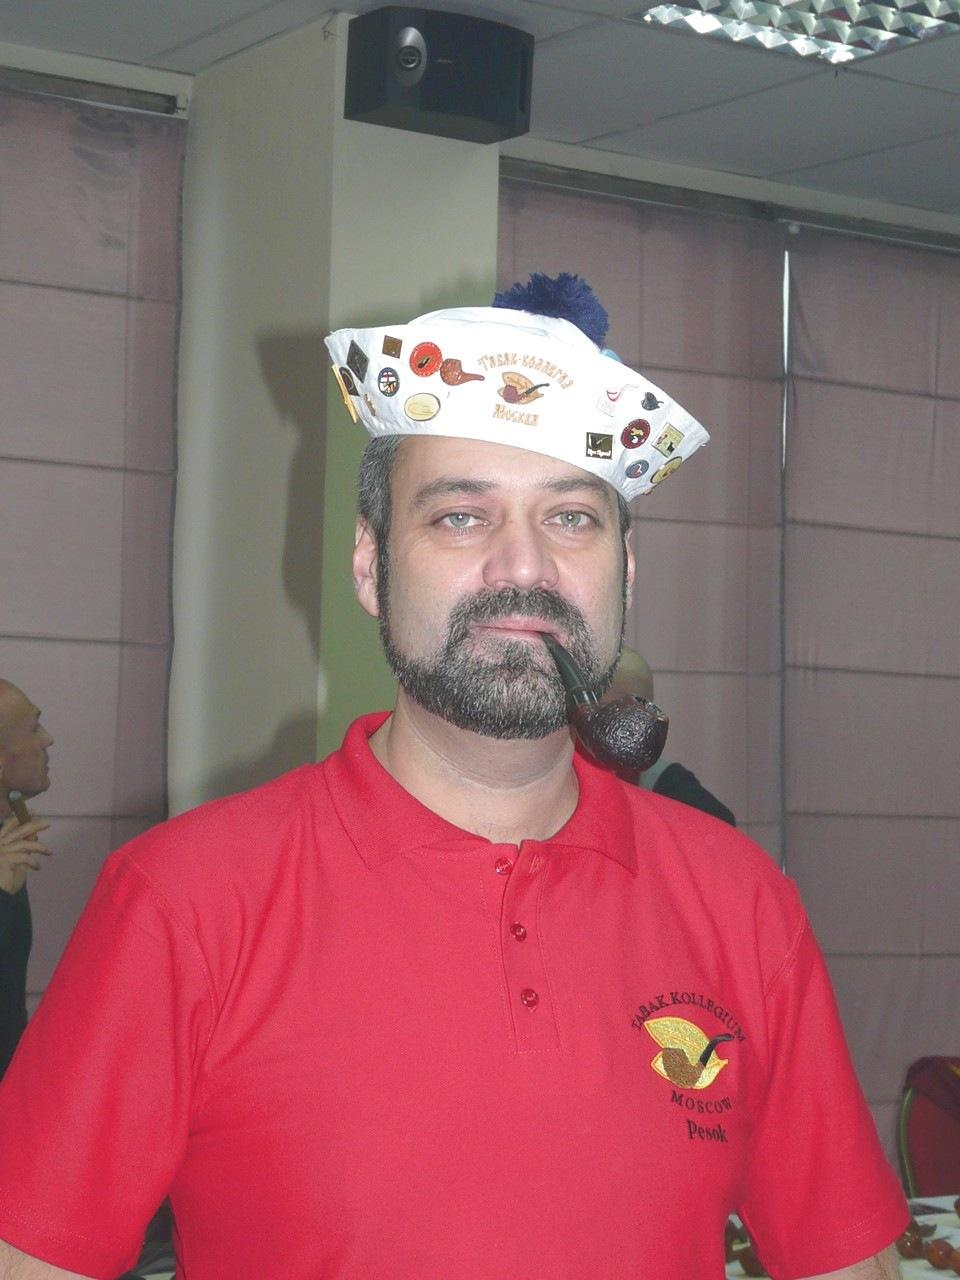trubka: (549, 640, 667, 771)
